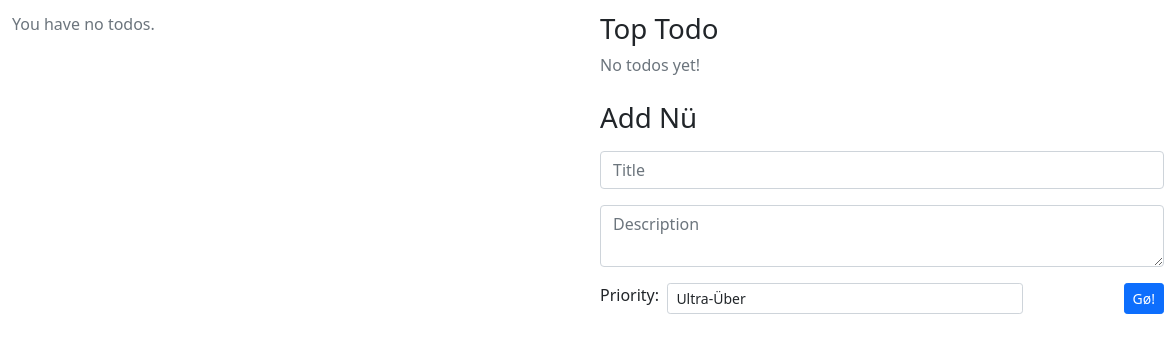
Test: TodoApp component › adds a todo on form submit
Type "testTitle" into the field with id "newTodo-title". click: (882, 170)
box: [600, 150, 1164, 188]
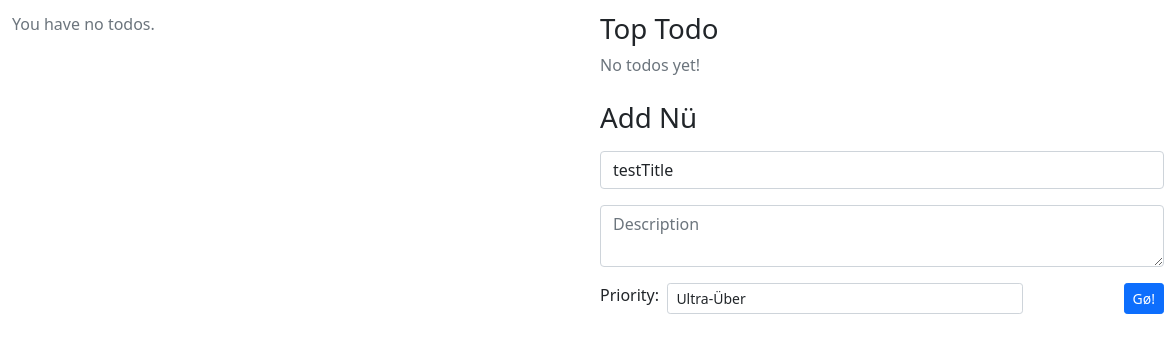
Type "testDesc" into the text box with id "newTodo-description". click: (882, 236)
box: [600, 204, 1164, 266]
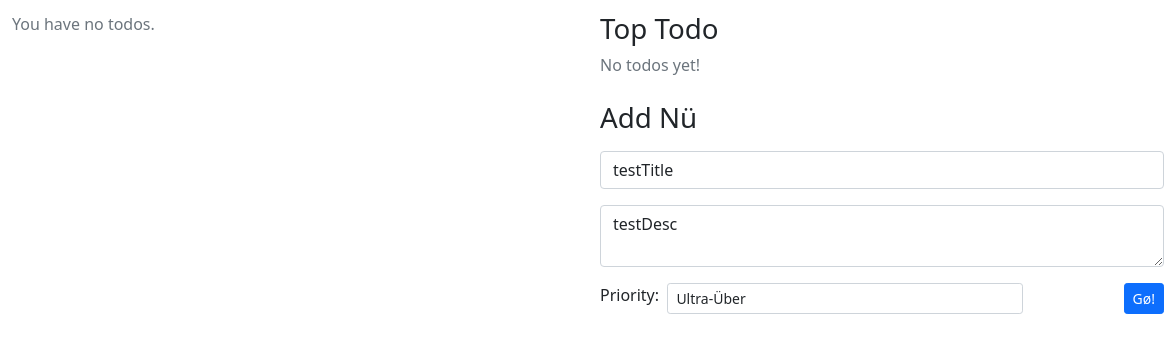
Select "Über" in the dropdown labelled "Priority:". click: (845, 298)
box: [667, 282, 1023, 314]
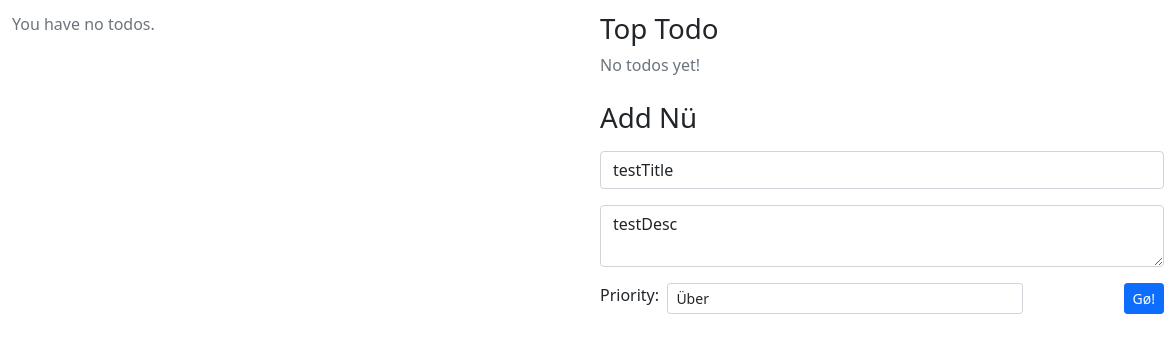
Click the button "Gø!". click: (1144, 298)
box: [1124, 282, 1164, 314]
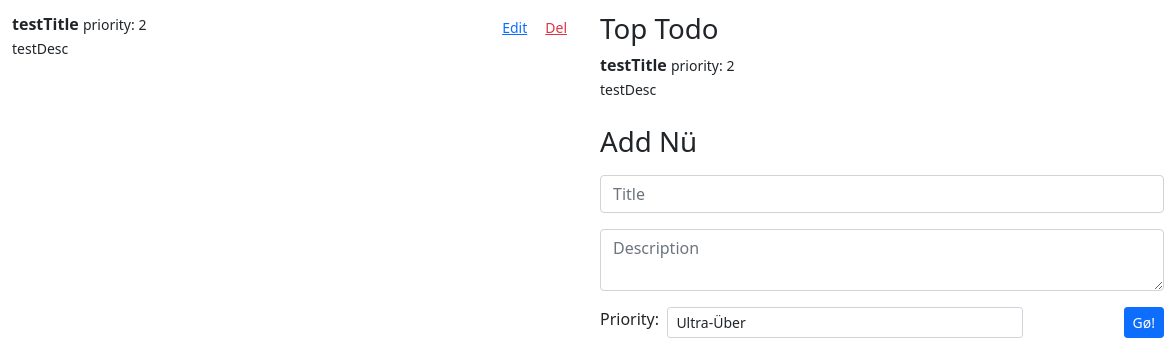
Expected: the 1st text "testTitle" is shown, [12, 13, 79, 35]
Expected: the 1st text "testDesc" is shown, [12, 39, 68, 58]
